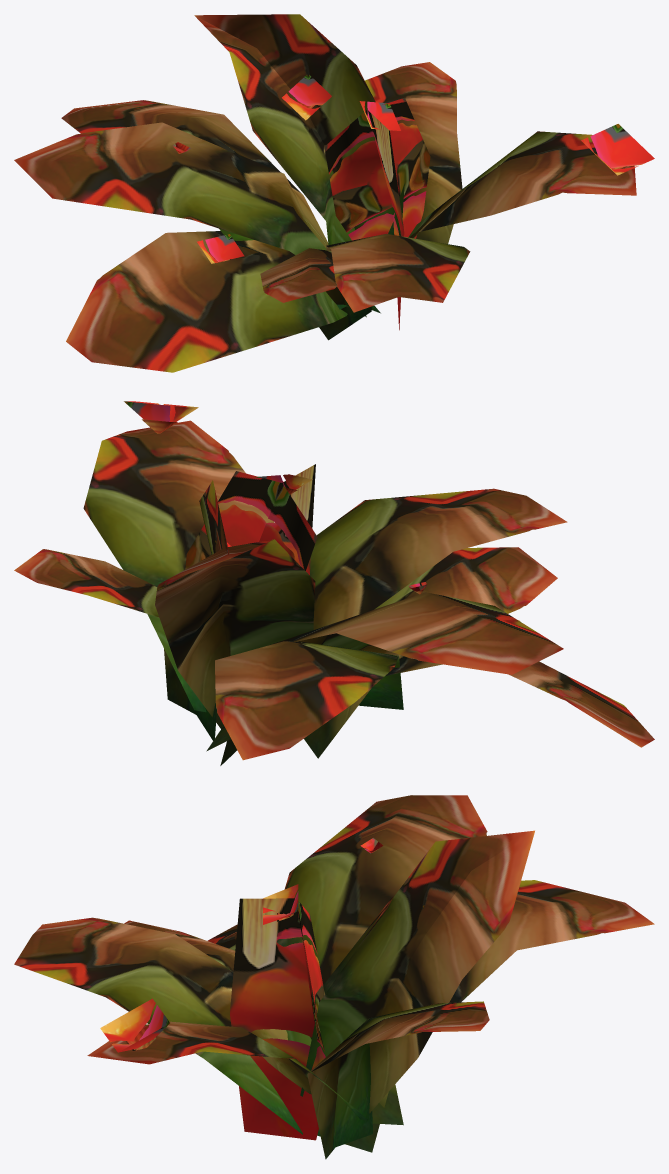
File: Scene_cao_005.FBX
3 renders of one model, top to bottom at view 1: azimuth 30°, elevation 25°; view 2: azimuth 150°, elevation 25°; view 3: azimuth 270°, elevation 25°, orthographic. The views are drawn at different scales.
Parts seen in each view (by area): view 1: Scene_cao_005; view 2: Scene_cao_005; view 3: Scene_cao_005.
Boxes of the visible parts, x1,y1,x2,y2 form: Scene_cao_005: (14, 14, 654, 372); Scene_cao_005: (14, 401, 654, 765); Scene_cao_005: (14, 795, 654, 1159).
Bounding box in the file's own units: 140 × 72.01 × 139.
